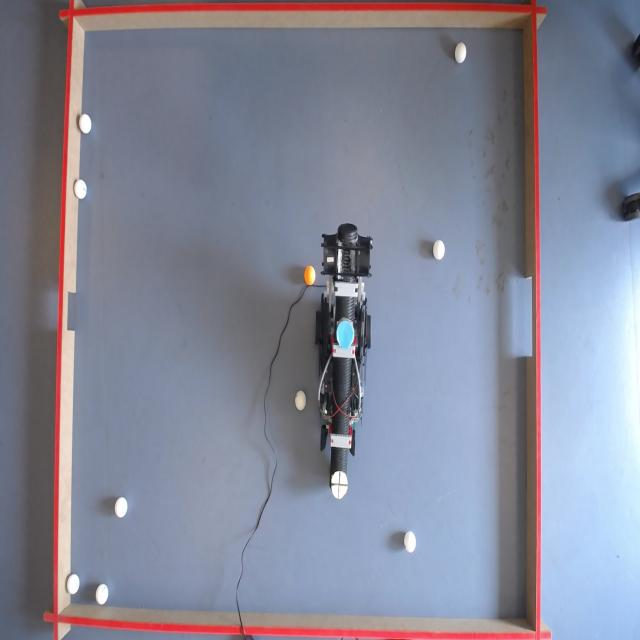orange: (306, 269, 318, 286)
robot: (311, 231, 378, 495)
robot-front: (331, 470, 348, 500)
robot-rear: (338, 319, 357, 349)
white: (96, 584, 111, 609), (114, 496, 128, 520), (405, 530, 418, 554), (68, 574, 82, 595), (432, 240, 446, 260), (80, 114, 92, 136), (455, 44, 468, 64), (294, 390, 306, 411), (76, 178, 88, 198)
